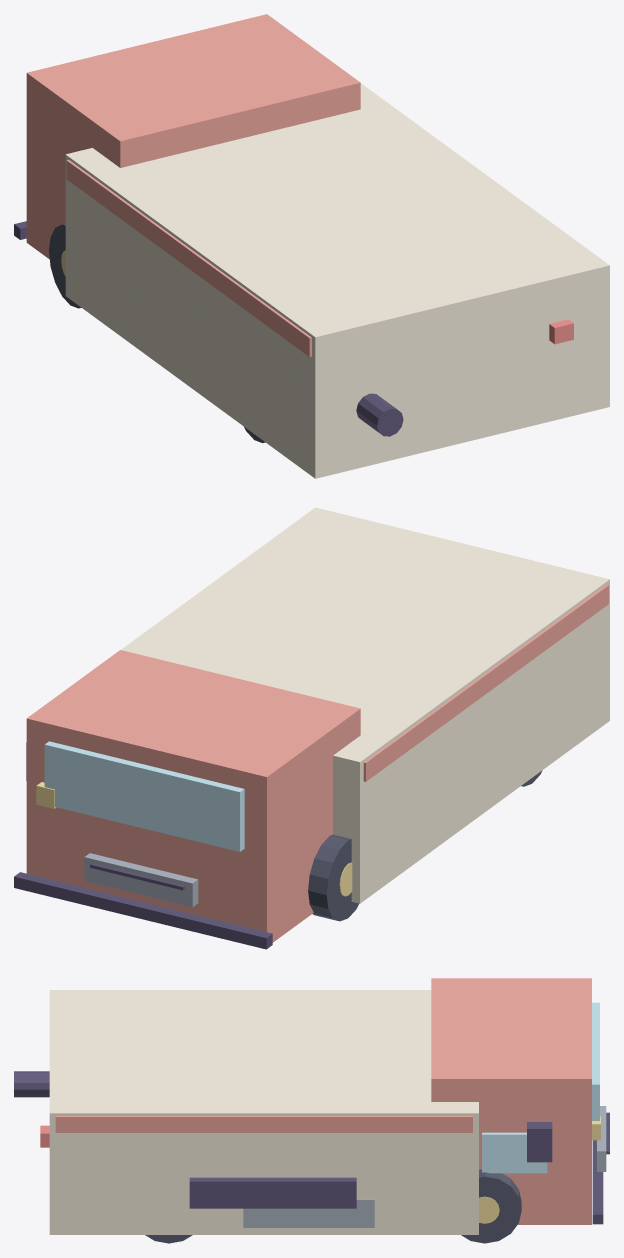
File: player_truck_lod0.glb
3 renders of one model, top to bottom at view 1: azimuth 30°, elevation 25°; view 2: azimuth 150°, elevation 25°; view 3: azimuth 270°, elevation 25°, orthographic. The views are drawn at different scales.
Parts seen in each view (by area): view 1: Trailer_Body, Cab_Body, Trailer_Stripe, Exhaust, Wheel_1; view 2: Trailer_Body, Cab_Body, Windshield, Trailer_Stripe, Front_Bumper, Front_Grille, Wheel_1; view 3: Trailer_Body, Cab_Body, Trailer_Stripe, Trailer_Side_Outline, Fuel_Tank, Wheel_2, Cab_Side_Window, Mirror, Exhaust, Windshield, Front_Bumper, Front_Grille (+1 smaller).
Boxes of the visible parts, x1=… form: Trailer_Body: x1=65, y1=83, x2=609, y2=478; Cab_Body: x1=26, y1=14, x2=360, y2=259; Trailer_Stripe: x1=66, y1=160, x2=311, y2=356; Exhaust: x1=356, y1=393, x2=403, y2=436; Wheel_1: x1=49, y1=223, x2=81, y2=308; Trailer_Body: x1=121, y1=507, x2=609, y2=903; Cab_Body: x1=26, y1=650, x2=360, y2=942; Windshield: x1=44, y1=741, x2=244, y2=851; Trailer_Stripe: x1=363, y1=584, x2=608, y2=781; Front_Bumper: x1=14, y1=872, x2=272, y2=949; Front_Grille: x1=84, y1=853, x2=198, y2=907; Wheel_1: x1=308, y1=834, x2=358, y2=921; Trailer_Body: x1=49, y1=990, x2=478, y2=1234; Cab_Body: x1=431, y1=978, x2=591, y2=1224; Trailer_Stripe: x1=55, y1=1116, x2=472, y2=1132; Trailer_Side_Outline: x1=189, y1=1177, x2=356, y2=1208; Fuel_Tank: x1=243, y1=1199, x2=374, y2=1227; Wheel_2: x1=461, y1=1169, x2=521, y2=1243; Cab_Side_Window: x1=482, y1=1132, x2=547, y2=1173; Mirror: x1=527, y1=1122, x2=552, y2=1162; Exhaust: x1=14, y1=1071, x2=49, y2=1097; Windshield: x1=592, y1=1002, x2=599, y2=1120; Front_Bumper: x1=592, y1=1140, x2=603, y2=1224; Front_Grille: x1=597, y1=1106, x2=606, y2=1171.
Size of the model in its own units: 5.13 by 2.9 by 10.
